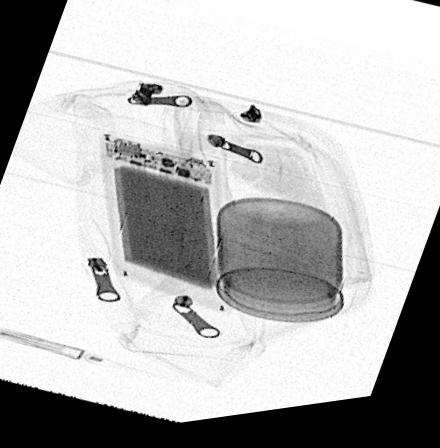Powerbank: (100, 135, 228, 320)
